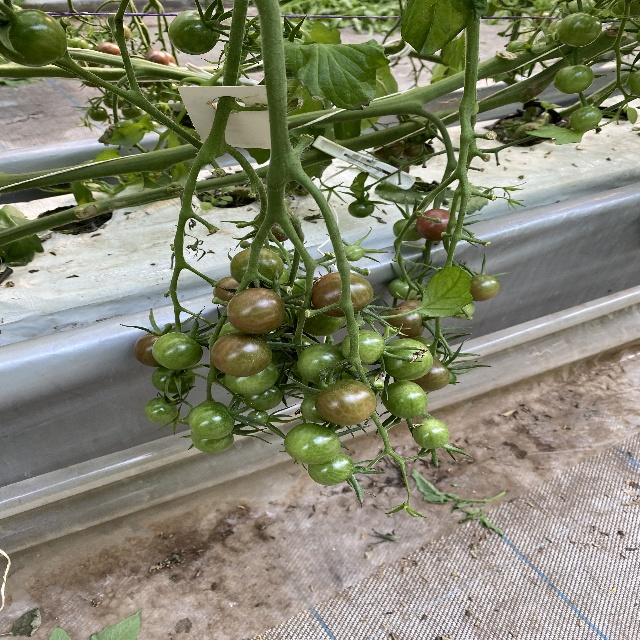l_fully_ripened: (415, 208, 458, 241)
l_green: (0, 9, 69, 67), (284, 422, 341, 464), (168, 10, 221, 55), (230, 248, 285, 287), (382, 339, 434, 380), (297, 344, 349, 384), (152, 332, 203, 370), (380, 380, 429, 419), (296, 298, 346, 336), (224, 362, 277, 396), (188, 402, 235, 439), (341, 329, 385, 365), (308, 452, 355, 485), (559, 12, 602, 47), (553, 64, 594, 94), (412, 417, 450, 449), (152, 366, 195, 394), (242, 385, 283, 411), (191, 432, 234, 454), (144, 397, 178, 424), (300, 393, 329, 423), (569, 106, 603, 131), (393, 218, 424, 241), (388, 278, 418, 300), (348, 200, 375, 219), (449, 301, 474, 319), (626, 69, 640, 98), (247, 410, 269, 426), (344, 245, 364, 262)
l_half_ripened: (315, 378, 377, 426), (311, 271, 373, 317), (210, 331, 272, 377), (226, 288, 286, 334), (405, 355, 450, 392), (386, 305, 425, 338), (134, 332, 167, 367), (213, 276, 249, 308), (470, 275, 500, 302)
